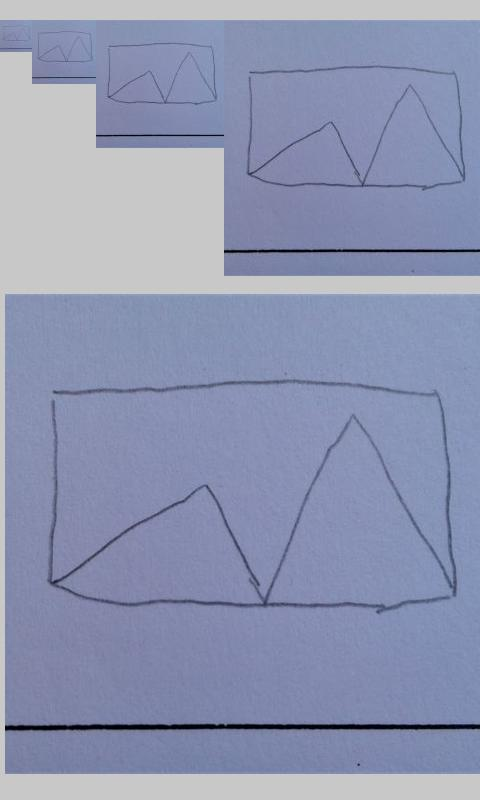image_view: (46, 376, 459, 612), (244, 63, 467, 191), (106, 41, 219, 107), (37, 30, 93, 64), (2, 24, 31, 42)
